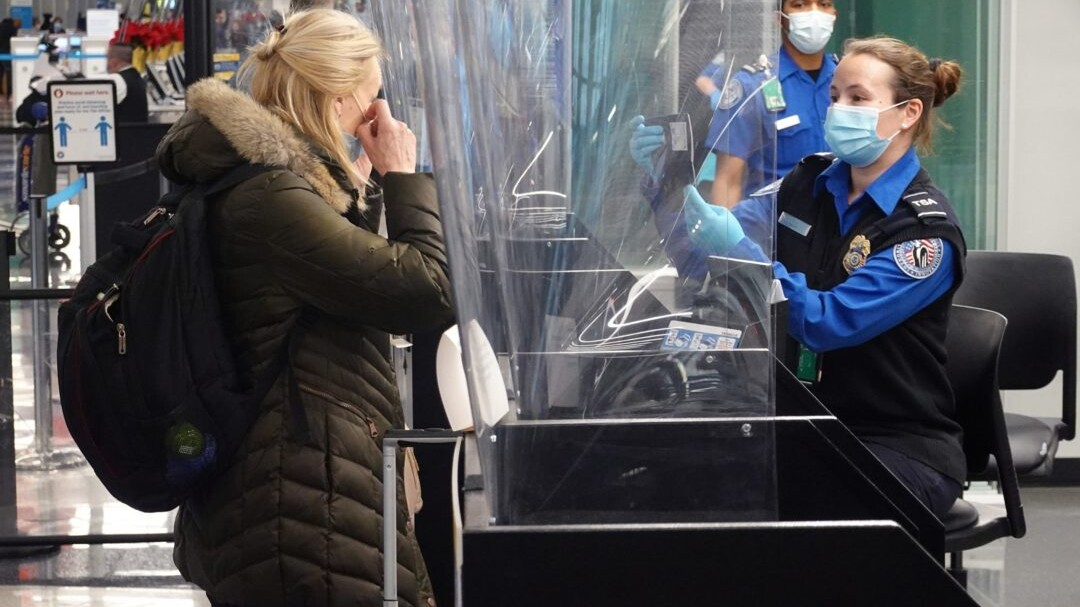with_mask: (830, 73, 887, 154), (782, 1, 831, 46)
